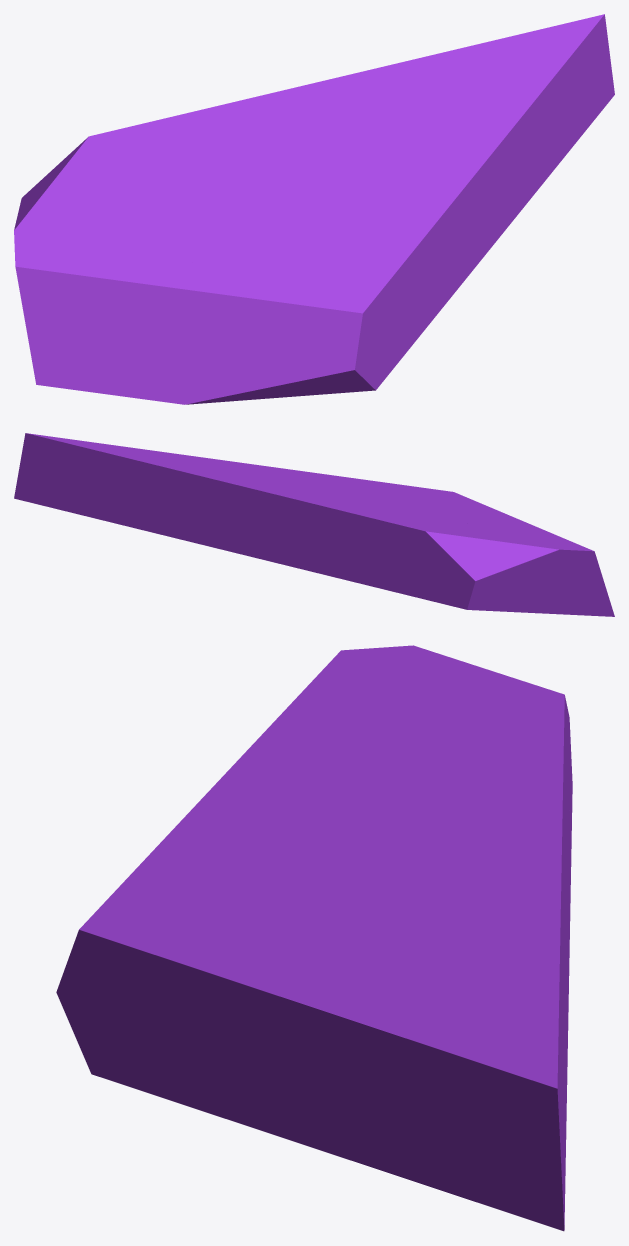
File: Window_149_5_chunks.fbx
3 views of the same model, one above another, from view 1: azimuth 30°, elevation 25°; view 2: azimuth 150°, elevation 25°; view 3: azimuth 270°, elevation 25° (orthographic). The views are drawn at different scales.
Visible parts, largest first — view 1: Window_149_5_0, Window_149_5_1, Window_149_5_5, Window_149_5_3, Window_149_5_2, Window_149_5_6; view 2: Window_149_5_5, Window_149_5_1, Window_149_5_6, Window_149_5_2, Window_149_5_0, Window_149_5_3; view 3: Window_149_5_0, Window_149_5_5, Window_149_5_3, Window_149_5_1, Window_149_5_2, Window_149_5_6.
Boxes of the visible parts, <box> form: Window_149_5_0: <box>186,193,475,404</box>; Window_149_5_1: <box>14,135,206,404</box>; Window_149_5_5: <box>285,14,614,200</box>; Window_149_5_3: <box>320,113,528,266</box>; Window_149_5_2: <box>92,125,331,280</box>; Window_149_5_6: <box>135,90,344,200</box>; Window_149_5_5: <box>14,433,294,565</box>; Window_149_5_1: <box>401,518,614,616</box>; Window_149_5_6: <box>274,486,407,593</box>; Window_149_5_2: <box>363,492,504,537</box>; Window_149_5_0: <box>283,468,517,518</box>; Window_149_5_3: <box>168,452,364,493</box>; Window_149_5_0: <box>56,801,308,1139</box>; Window_149_5_5: <box>393,844,569,1231</box>; Window_149_5_3: <box>271,884,439,1174</box>; Window_149_5_1: <box>200,645,572,848</box>; Window_149_5_2: <box>220,697,565,893</box>; Window_149_5_6: <box>324,729,571,940</box>.
Bounding box in the file's own units: 817 × 204 × 347.
